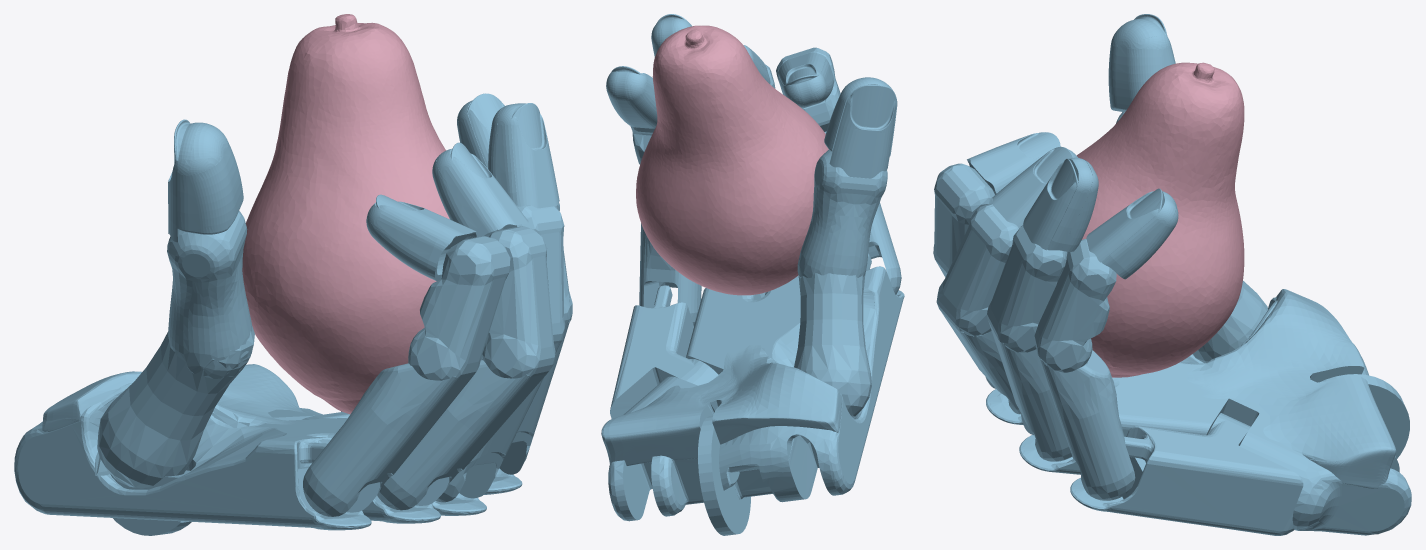
3 views of the same model, side by side, from view 1: azimuth 30°, elevation 25°; view 2: azimuth 150°, elevation 25°; view 3: azimuth 270°, elevation 25° (orthographic). The views are drawn at different scales.
Visible parts, largest first — view 1: world; view 2: world; view 3: world.
Boxes of the visible parts, x1,y1,x2,y2 form: world: [14, 14, 572, 535]; world: [601, 14, 904, 535]; world: [933, 14, 1411, 535].
Size of the model in its own units: 0.1191 by 0.1531 by 0.1383.
